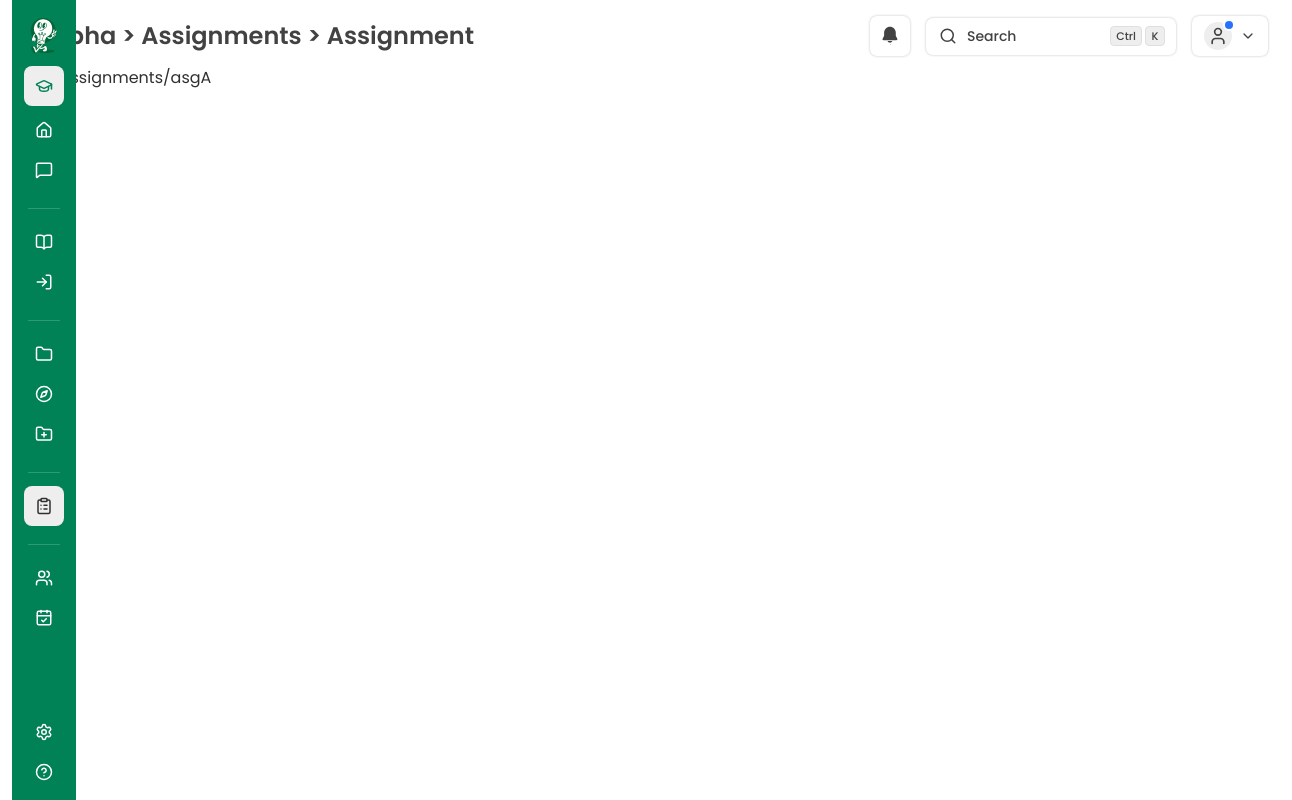
Scenario: switching class on a detail page › never shows the detail page with the new class (sidebar class switcher)
Click the 1st button named "Alpha" at (44, 86), box [24,66,64,106]
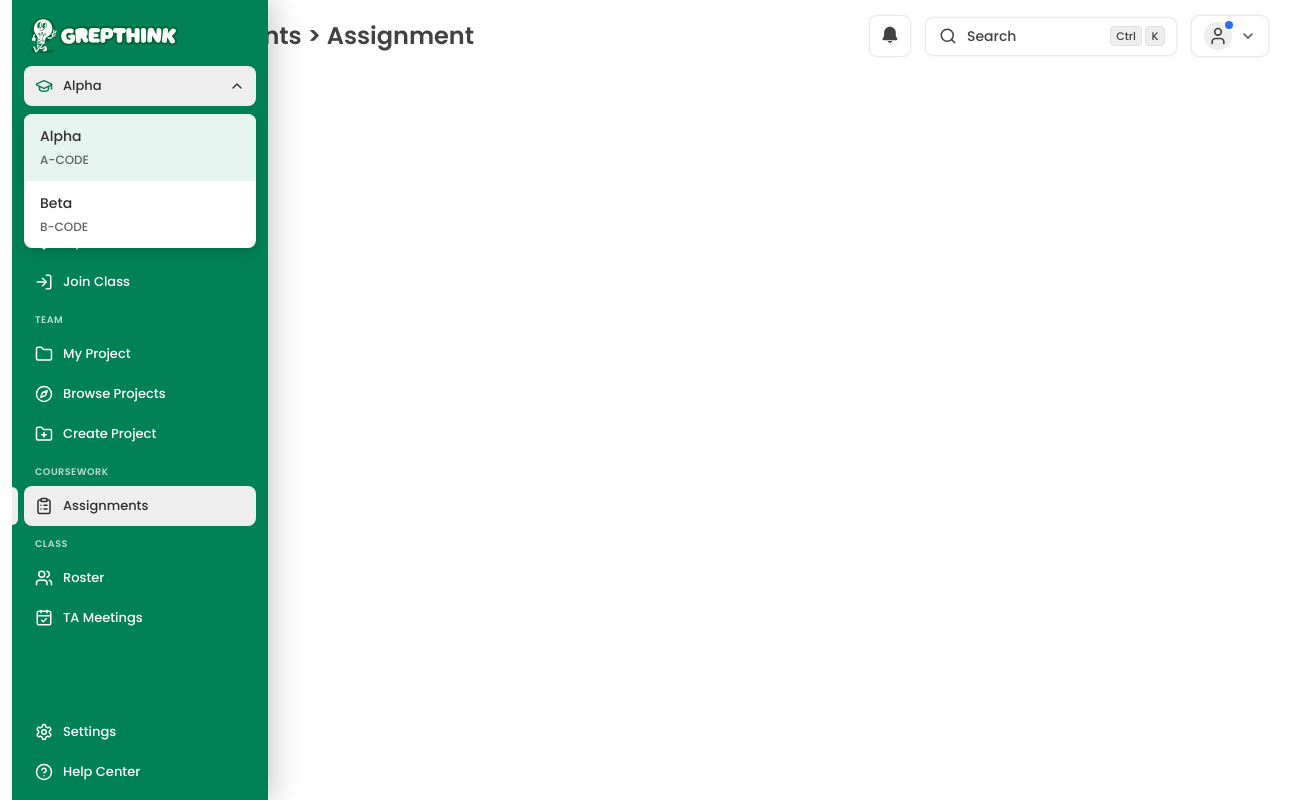
Click the text "Beta" at (56, 204), box [40,193,72,214]
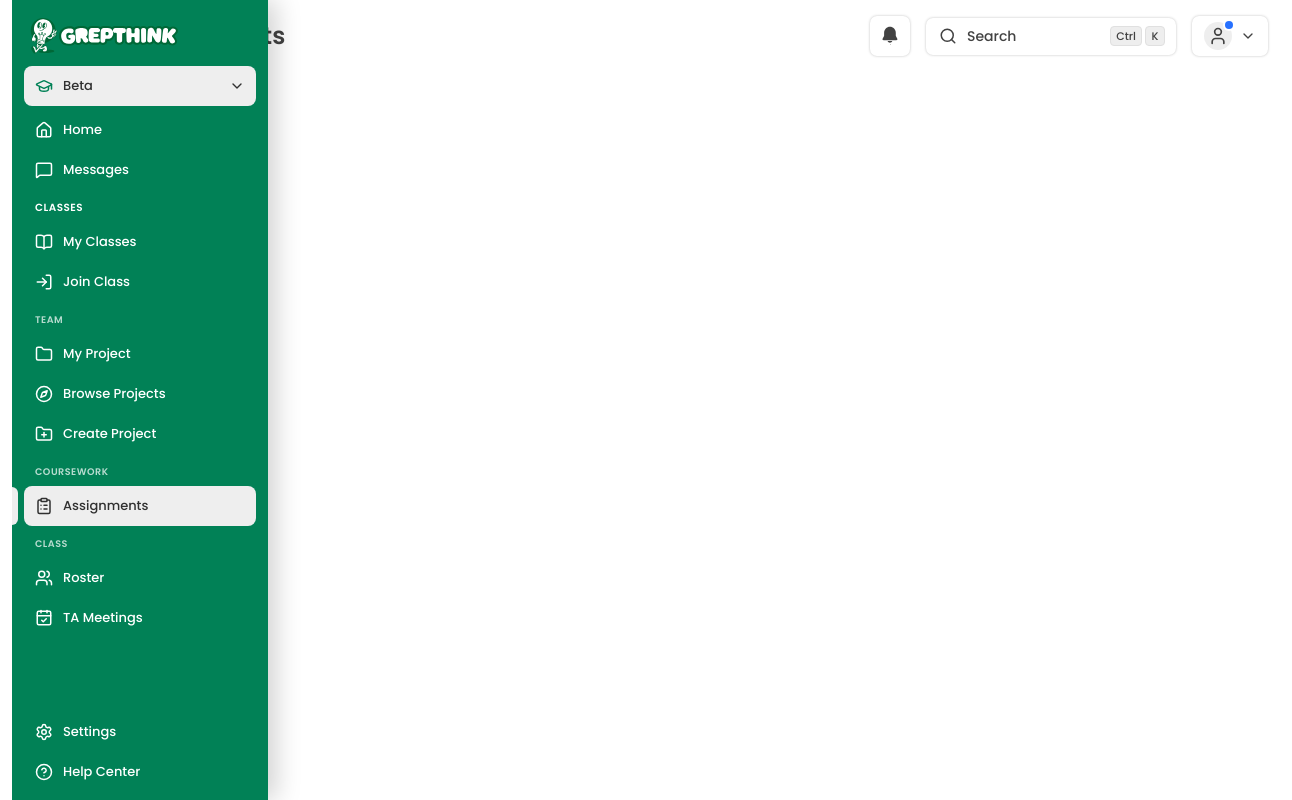
Now the text with test id "page" reads "/app/assignments", box [12,66,163,89]
